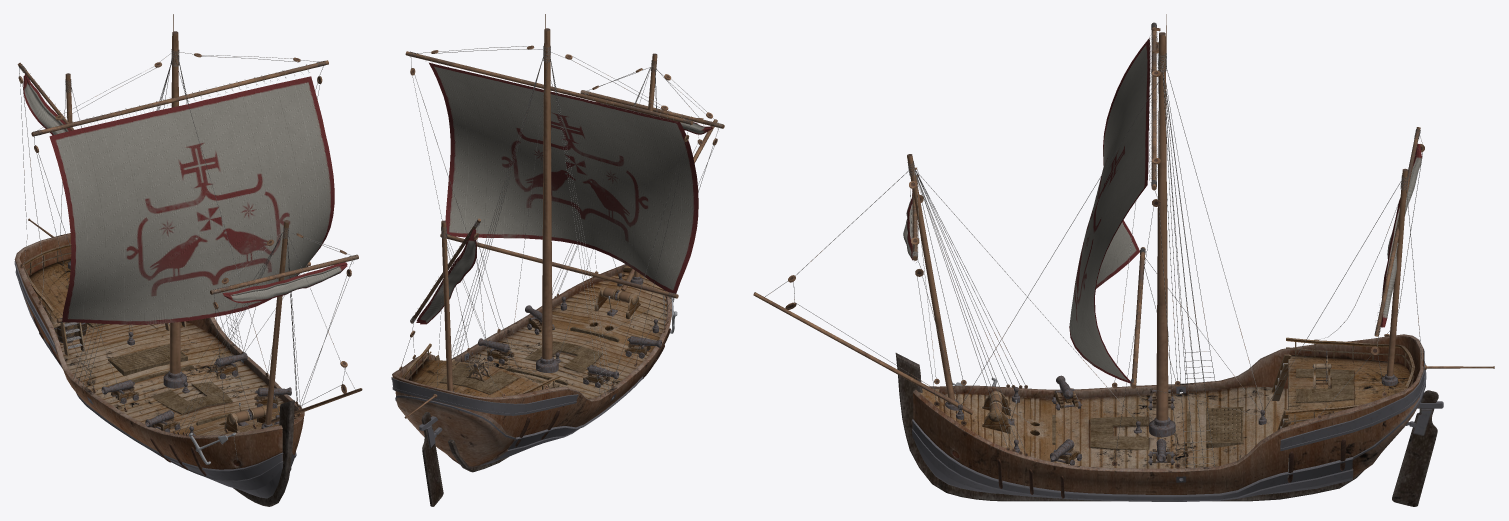
The model's file is ship_caravel.glb.
3 renders of one model, left to right at view 1: azimuth 30°, elevation 25°; view 2: azimuth 150°, elevation 25°; view 3: azimuth 270°, elevation 25°, orthographic. The views are drawn at different scales.
Visible parts, largest first — view 1: SailAnim001, PoopDeck_lo, Hull_lo_Hull_0, Sail002, UpperDeck_lo, MidBoom_MastsRigging_0, Keel, UpperHatch001_lo_Poopdeck_0, Hatch, Foremast, MidMast, Sail001 (+15 smaller); view 2: SailAnim001, Hull_lo_Hull_0, PoopDeck_lo, MidMast, ClimbingRigging, HullBackDetailPlate, UpperDeck_lo, Sail001, MidBoom_MastsRigging_0, Rudder_Hull_0, MidBoom001_MastsRigging_0, UpperHatch_lo_Poopdeck_0 (+13 smaller); view 3: Hull_lo_Hull_0, PoopDeck_lo, SailAnim001, UpperDeck_lo, MidMast, Keel, Rudder_Hull_0, ClimbingRigging, ForeMastSideRigging, HullBackDetailPlate, Foremast, UpperHatch001_lo_Poopdeck_0 (+8 smaller).
Boxes of the visible parts, <box> form: SailAnim001: <box>49,76,334,324</box>; PoopDeck_lo: <box>56,321,298,435</box>; Hull_lo_Hull_0: <box>14,233,304,498</box>; Sail002: <box>222,262,347,303</box>; UpperDeck_lo: <box>29,259,70,327</box>; MidBoom_MastsRigging_0: <box>31,60,328,136</box>; Keel: <box>233,400,294,506</box>; UpperHatch001_lo_Poopdeck_0: <box>151,382,232,414</box>; Hatch: <box>108,344,187,375</box>; Foremast: <box>265,220,289,424</box>; MidMast: <box>169,31,180,373</box>; Sail001: <box>23,74,71,135</box>; SailAnim001: <box>429,62,698,293</box>; Hull_lo_Hull_0: <box>392,264,671,467</box>; PoopDeck_lo: <box>464,265,667,399</box>; MidMast: <box>542,28,552,359</box>; ClimbingRigging: <box>451,56,613,397</box>; HullBackDetailPlate: <box>391,377,578,415</box>; UpperDeck_lo: <box>409,359,544,397</box>; Sail001: <box>416,229,476,324</box>; MidBoom_MastsRigging_0: <box>405,51,693,124</box>; Rudder_Hull_0: <box>419,411,443,506</box>; MidBoom001_MastsRigging_0: <box>440,234,678,298</box>; UpperHatch_lo_Poopdeck_0: <box>440,363,518,394</box>; Hull_lo_Hull_0: <box>912,334,1423,501</box>; PoopDeck_lo: <box>919,387,1287,468</box>; SailAnim001: <box>1069,38,1150,383</box>; UpperDeck_lo: <box>1288,354,1409,425</box>; MidMast: <box>1156,32,1168,420</box>; Keel: <box>895,353,1363,501</box>; Rudder_Hull_0: <box>1392,390,1443,506</box>; ClimbingRigging: <box>1162,65,1215,470</box>; ForeMastSideRigging: <box>914,169,1026,452</box>; HullBackDetailPlate: <box>1280,349,1424,450</box>; Foremast: <box>907,154,954,400</box>; UpperHatch001_lo_Poopdeck_0: <box>1090,416,1148,449</box>.
Size of the model in its own units: 138 by 193 by 265.
5 materials, 5 textured.
